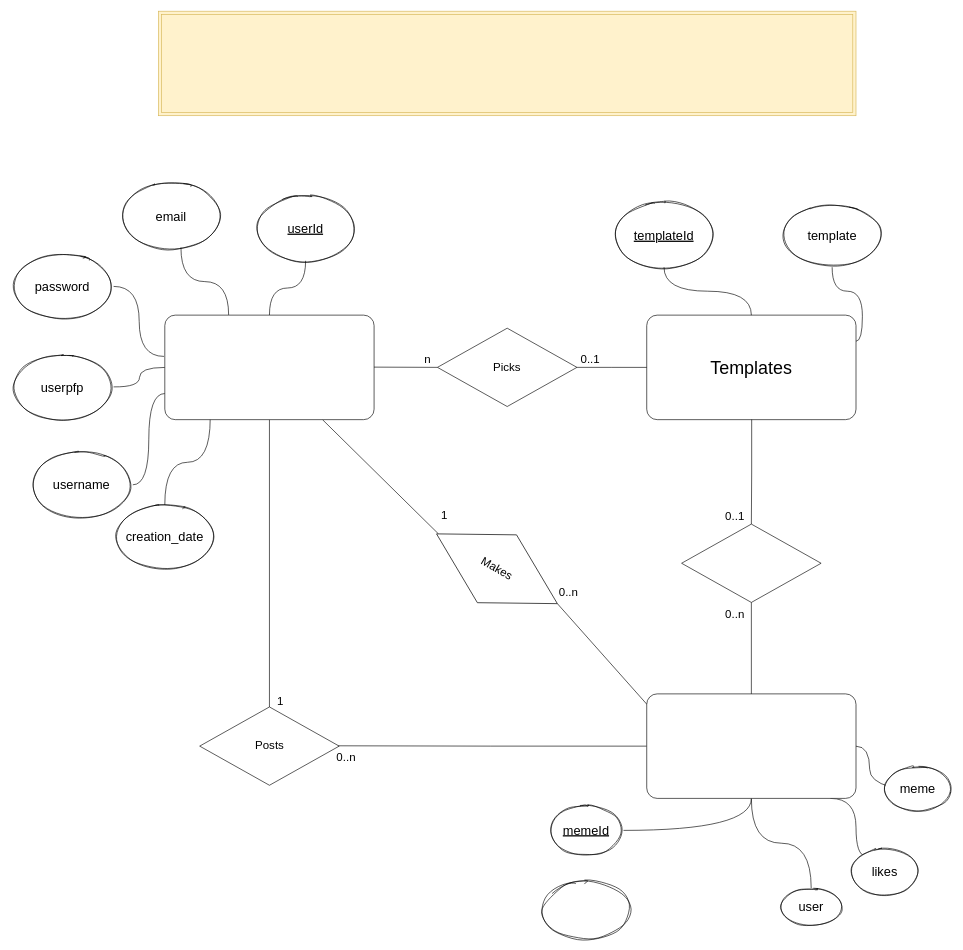
Image size: 963x950. Some labels were removed from this diagram. The centre of each missing label's shape, as x and y in pixels:
Memes: the point at 751,745
MEMIGO - Design Roberto Martinez: the point at 507,63
publish_date: the point at 586,910
Users: the point at 269,367
Uses: the point at 751,562
